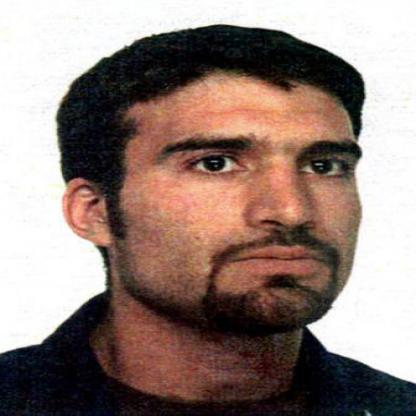face: (103, 34, 395, 338)
